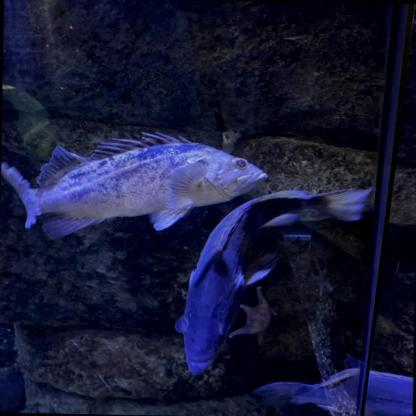fish: (160, 179, 375, 384), (7, 129, 261, 233)
